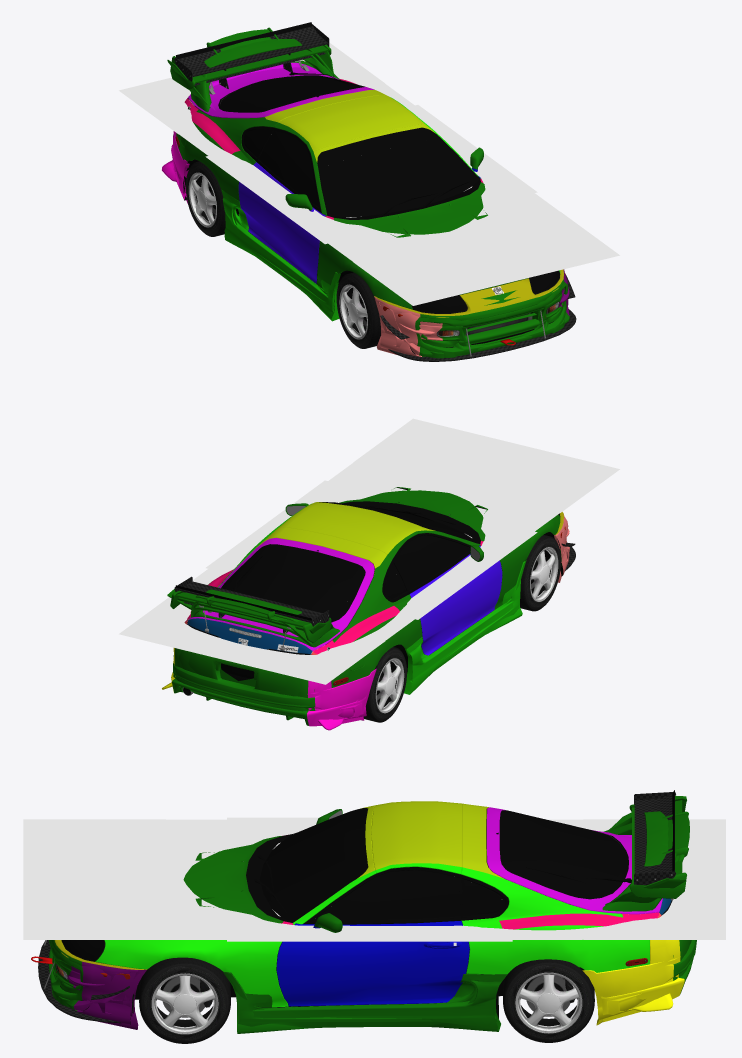
Rendered from supra.fbx.
The picture shows the model from 3 angles, top to bottom: view 1: azimuth 30°, elevation 25°; view 2: azimuth 150°, elevation 25°; view 3: azimuth 270°, elevation 25°; orthographic projection. The views are drawn at different scales.
Visible parts, largest first — view 1: neon (×4), toy_suprarz_98_body_body_, toy_suprarz_98_glassF_window_, shadow, toy_suprarz_98_bumperFg_body_, toy_suprarz_98_bumperFd_body_, toy_suprarz_98_glassR_window_, toy_suprarz_98_wheel_tire_ (×2), toy_suprarz_98_body_black_glass_, toy_suprarz_98_trunk_body_, toy_suprarz_98_hooda_body_, toy_suprarz_98_glassRF_window_ (+16 smaller); view 2: neon (×4), shadow, toy_suprarz_98_body_body_, toy_suprarz_98_glassR_window_, toy_suprarz_98_bumperRi_body_, toy_suprarz_98_trunk_body_, toy_suprarz_98_wheel_tire_ (×2), toy_suprarz_98_glassRF_window_, toy_suprarz_98_bumperRc_body_, toy_suprarz_98_wheel_rim_ (×2), toy_suprarz_98_skirtRd_body_, toy_suprarz_98_hooda_body_ (+13 smaller); view 3: toy_suprarz_98_body_body_, neon (×4), shadow, toy_suprarz_98_glassR_window_, toy_suprarz_98_wheel_tire_ (×2), toy_suprarz_98_glassF_window_, toy_suprarz_98_glassLF_window_, toy_suprarz_98_skirtLd_body_, toy_suprarz_98_wheel_rim_ (×2), toy_suprarz_98_bumperRi_body_, toy_suprarz_98_hooda_body_, toy_suprarz_98_trunk_body_ (+26 smaller).
Boxes of the visible parts, x1,y1,x2,y2 form: neon (×4): [119, 42, 619, 305]; toy_suprarz_98_body_body_: [176, 78, 560, 309]; toy_suprarz_98_glassF_window_: [322, 139, 473, 215]; shadow: [179, 65, 559, 284]; toy_suprarz_98_bumperFg_body_: [374, 269, 564, 358]; toy_suprarz_98_bumperFd_body_: [374, 273, 568, 357]; toy_suprarz_98_glassR_window_: [223, 76, 359, 110]; toy_suprarz_98_wheel_tire_ (×2): [185, 161, 380, 348]; toy_suprarz_98_body_black_glass_: [244, 128, 479, 217]; toy_suprarz_98_trunk_body_: [188, 62, 374, 118]; toy_suprarz_98_hooda_body_: [333, 182, 494, 294]; toy_suprarz_98_glassRF_window_: [259, 131, 318, 206]; neon (×4): [119, 418, 619, 684]; shadow: [165, 440, 576, 661]; toy_suprarz_98_body_body_: [184, 502, 560, 687]; toy_suprarz_98_glassR_window_: [224, 546, 359, 618]; toy_suprarz_98_bumperRi_body_: [173, 652, 376, 718]; toy_suprarz_98_trunk_body_: [187, 537, 374, 654]; toy_suprarz_98_wheel_tire_ (×2): [363, 535, 561, 722]; toy_suprarz_98_glassRF_window_: [395, 535, 470, 590]; toy_suprarz_98_bumperRc_body_: [171, 648, 366, 726]; toy_suprarz_98_wheel_rim_ (×2): [375, 547, 558, 713]; toy_suprarz_98_skirtRd_body_: [405, 561, 525, 691]; toy_suprarz_98_hooda_body_: [339, 490, 483, 541]; toy_suprarz_98_body_body_: [95, 801, 661, 1007]; neon (×4): [23, 817, 725, 941]; shadow: [53, 819, 688, 939]; toy_suprarz_98_glassR_window_: [506, 812, 622, 894]; toy_suprarz_98_wheel_tire_ (×2): [139, 957, 594, 1043]; toy_suprarz_98_glassF_window_: [263, 813, 348, 916]; toy_suprarz_98_glassLF_window_: [313, 870, 460, 920]; toy_suprarz_98_skirtLd_body_: [230, 974, 507, 1028]; toy_suprarz_98_wheel_rim_ (×2): [154, 972, 582, 1033]; toy_suprarz_98_bumperRi_body_: [582, 940, 696, 1020]; toy_suprarz_98_hooda_body_: [183, 850, 283, 923]; toy_suprarz_98_trunk_body_: [486, 807, 671, 914].
Bounding box in the file's own units: 4 × 1.26 × 5.
